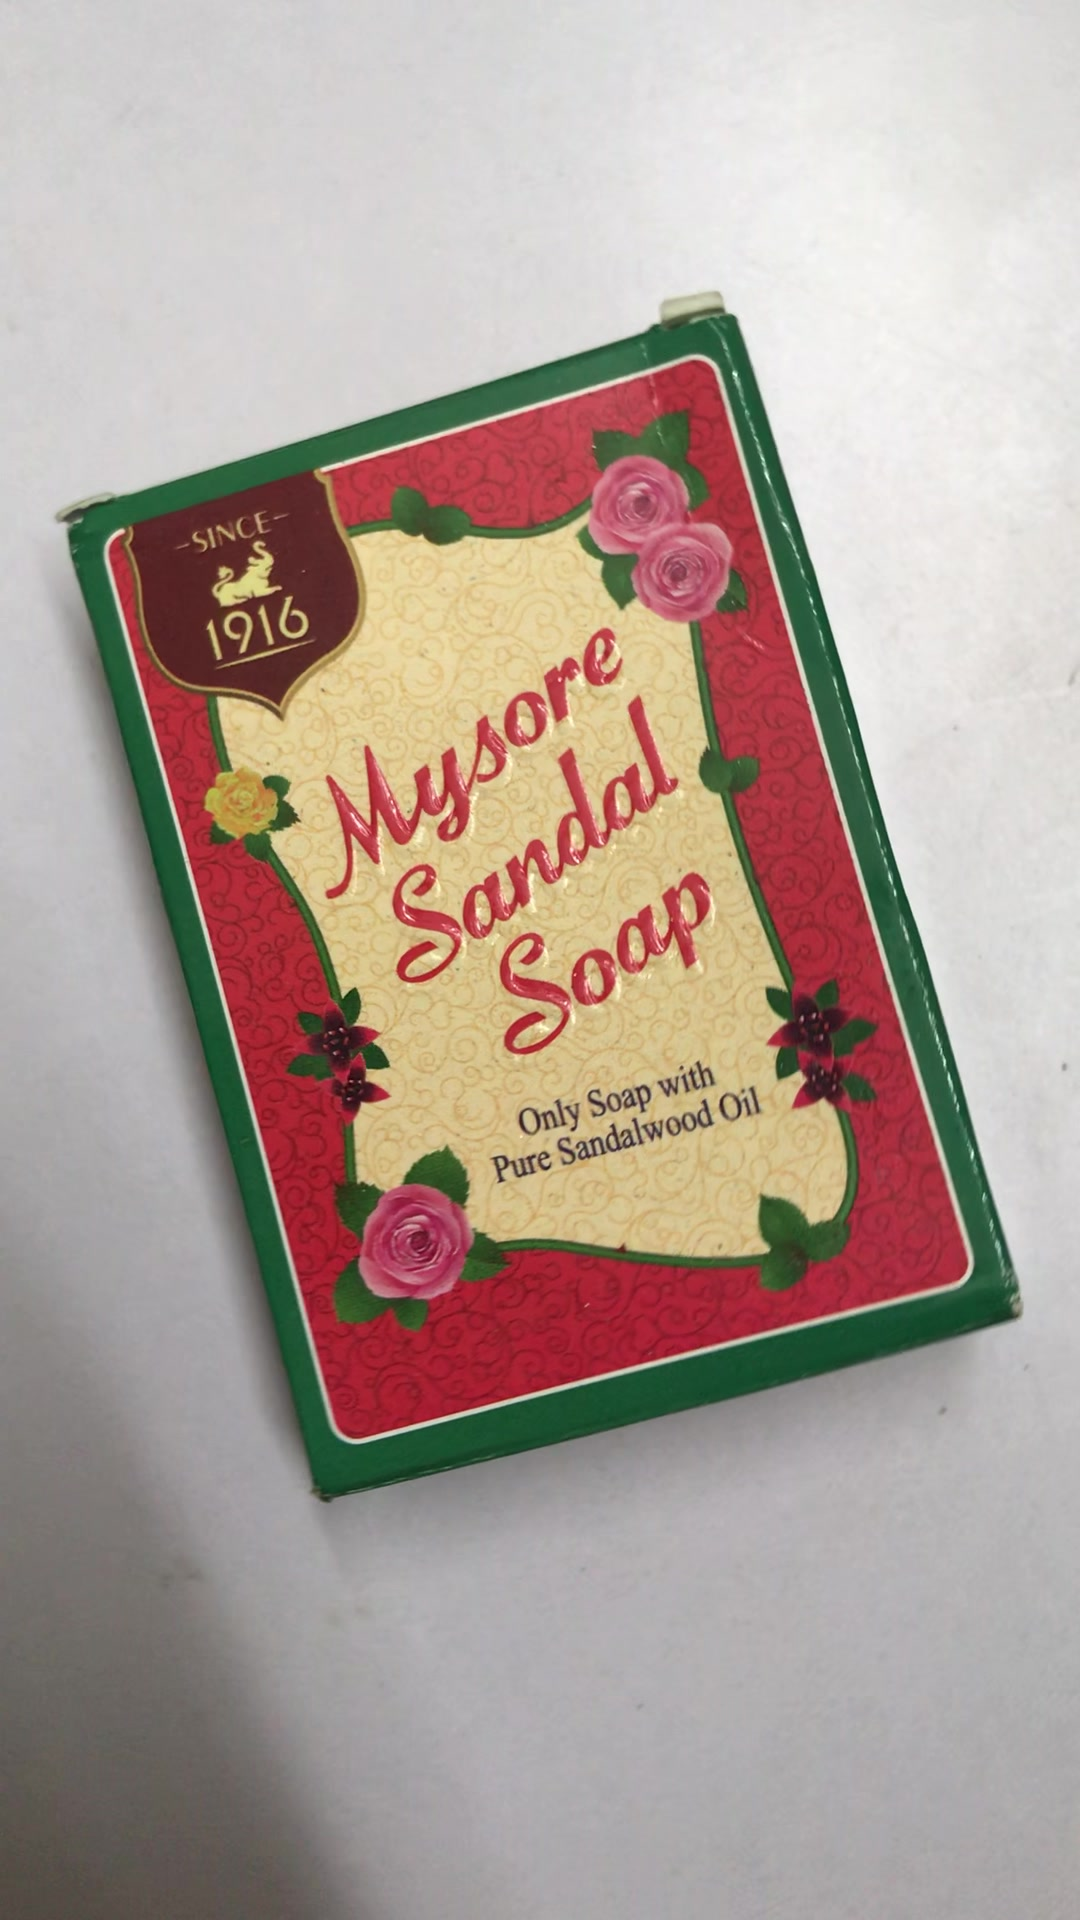mysore sandal soap: (65, 323, 1026, 1487)
